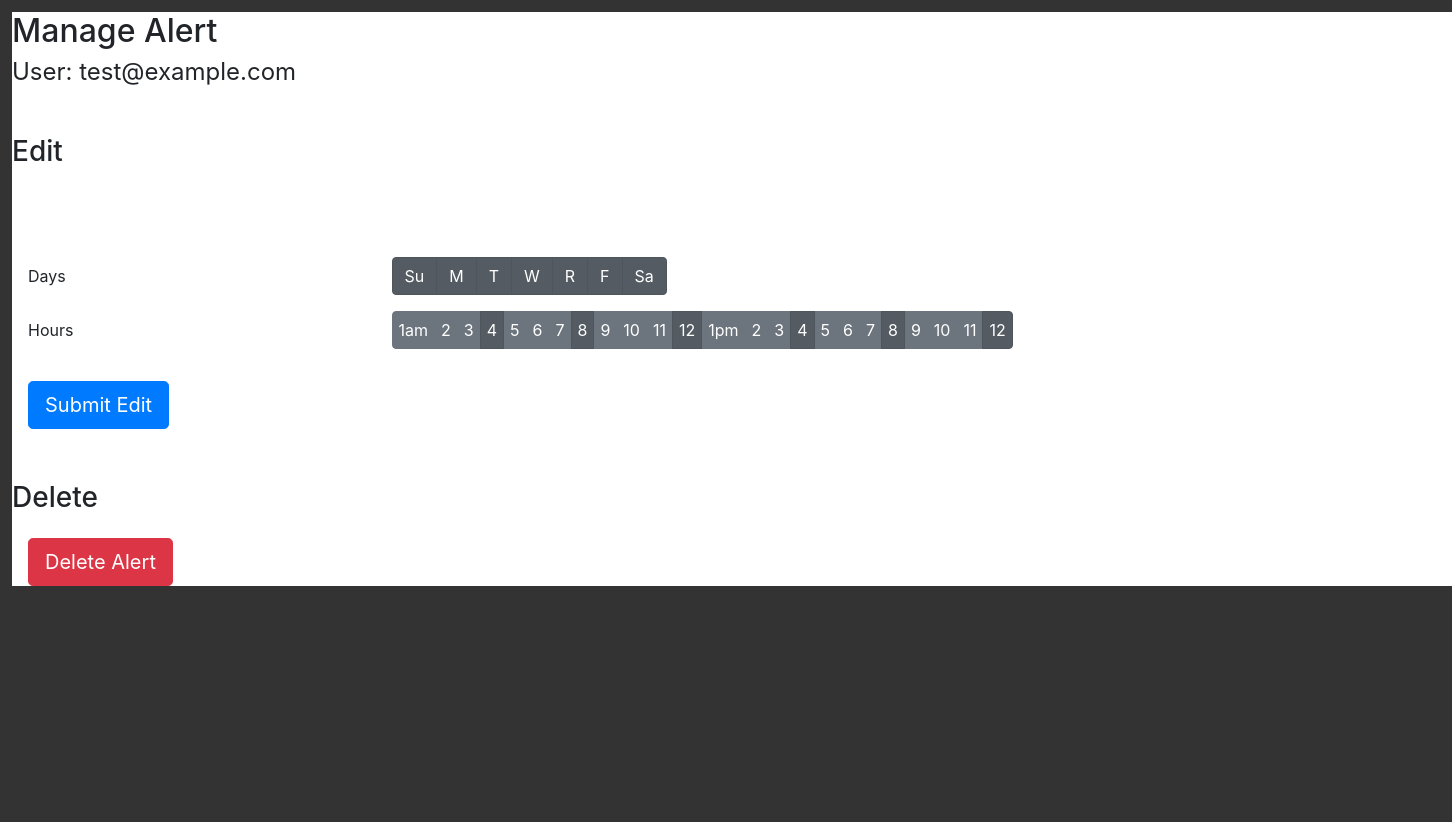
Test: AlertPage › should show error message if edit failed
Click the button "Submit Edit": (99, 405) [28,381,169,429]
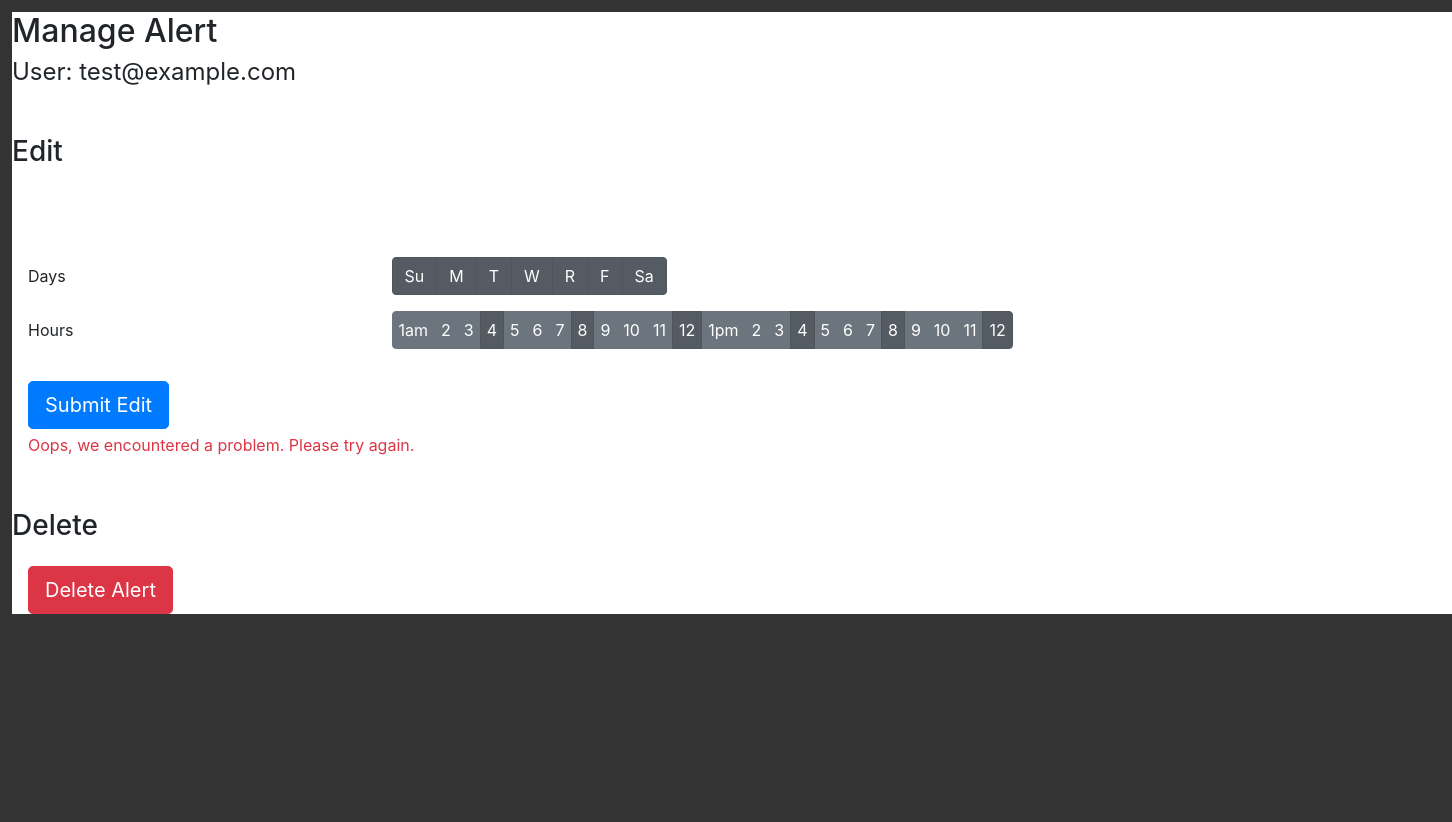
Result: the text "Oops" is shown at [28,435,414,455]
